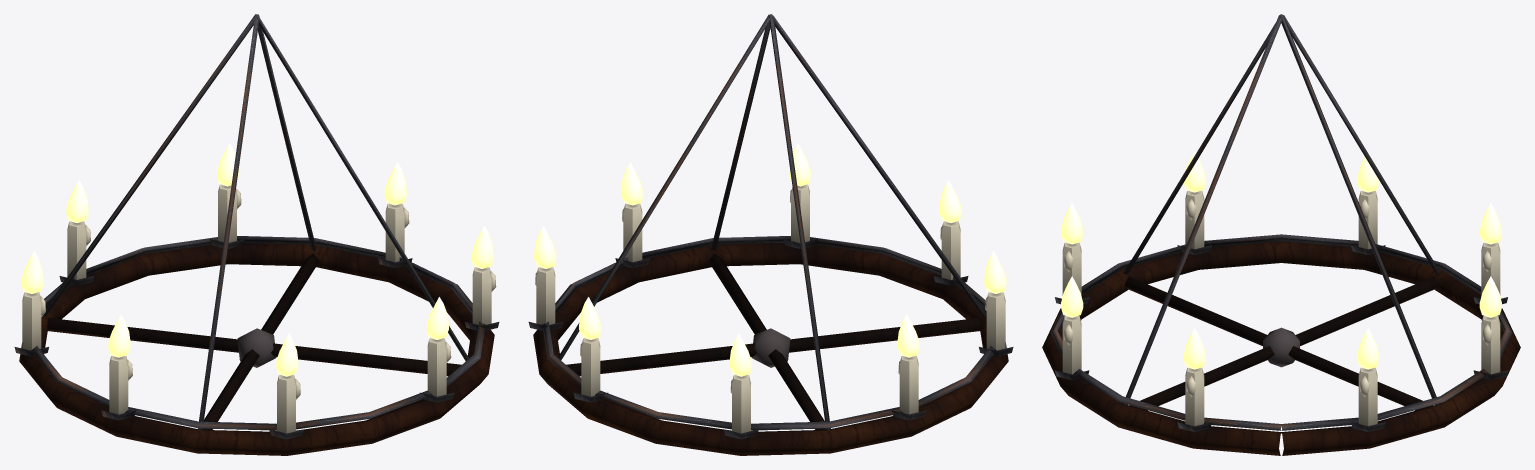
Rendered from interior_chandelier.glb.
3 views of the same model, side by side, from view 1: azimuth 30°, elevation 25°; view 2: azimuth 150°, elevation 25°; view 3: azimuth 270°, elevation 25° (orthographic).
Parts seen in each view (by area): view 1: interior_chandelier; view 2: interior_chandelier; view 3: interior_chandelier.
Boxes of the visible parts, box(x1,y1,x2,y2) form: interior_chandelier: box(14, 14, 499, 455); interior_chandelier: box(528, 14, 1013, 455); interior_chandelier: box(1042, 14, 1520, 455).
Size of the model in its own units: 1.31 by 1.07 by 1.31.
4 materials, 2 textured.
